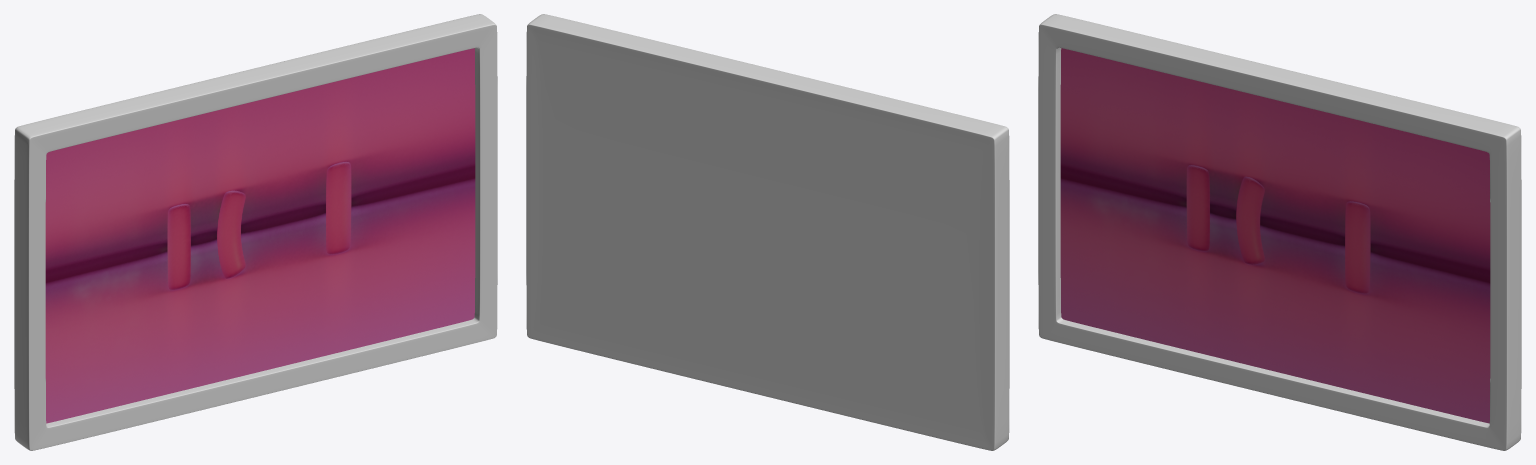
Rendered from canvasB.fbx.
3 views of the same model, side by side, from view 1: azimuth 30°, elevation 25°; view 2: azimuth 150°, elevation 25°; view 3: azimuth 330°, elevation 25° (orthographic).
Visible parts, largest first — view 1: art, canvasB; view 2: canvasB; view 3: art, canvasB.
Part boxes in pixels (bbox=[...]): art: bbox=[45, 48, 475, 423]; canvasB: bbox=[14, 14, 497, 450]; canvasB: bbox=[526, 14, 1009, 450]; art: bbox=[1060, 48, 1490, 423]; canvasB: bbox=[1038, 14, 1521, 450].
Bounding box in the file's own units: 393 × 252 × 21.32.
